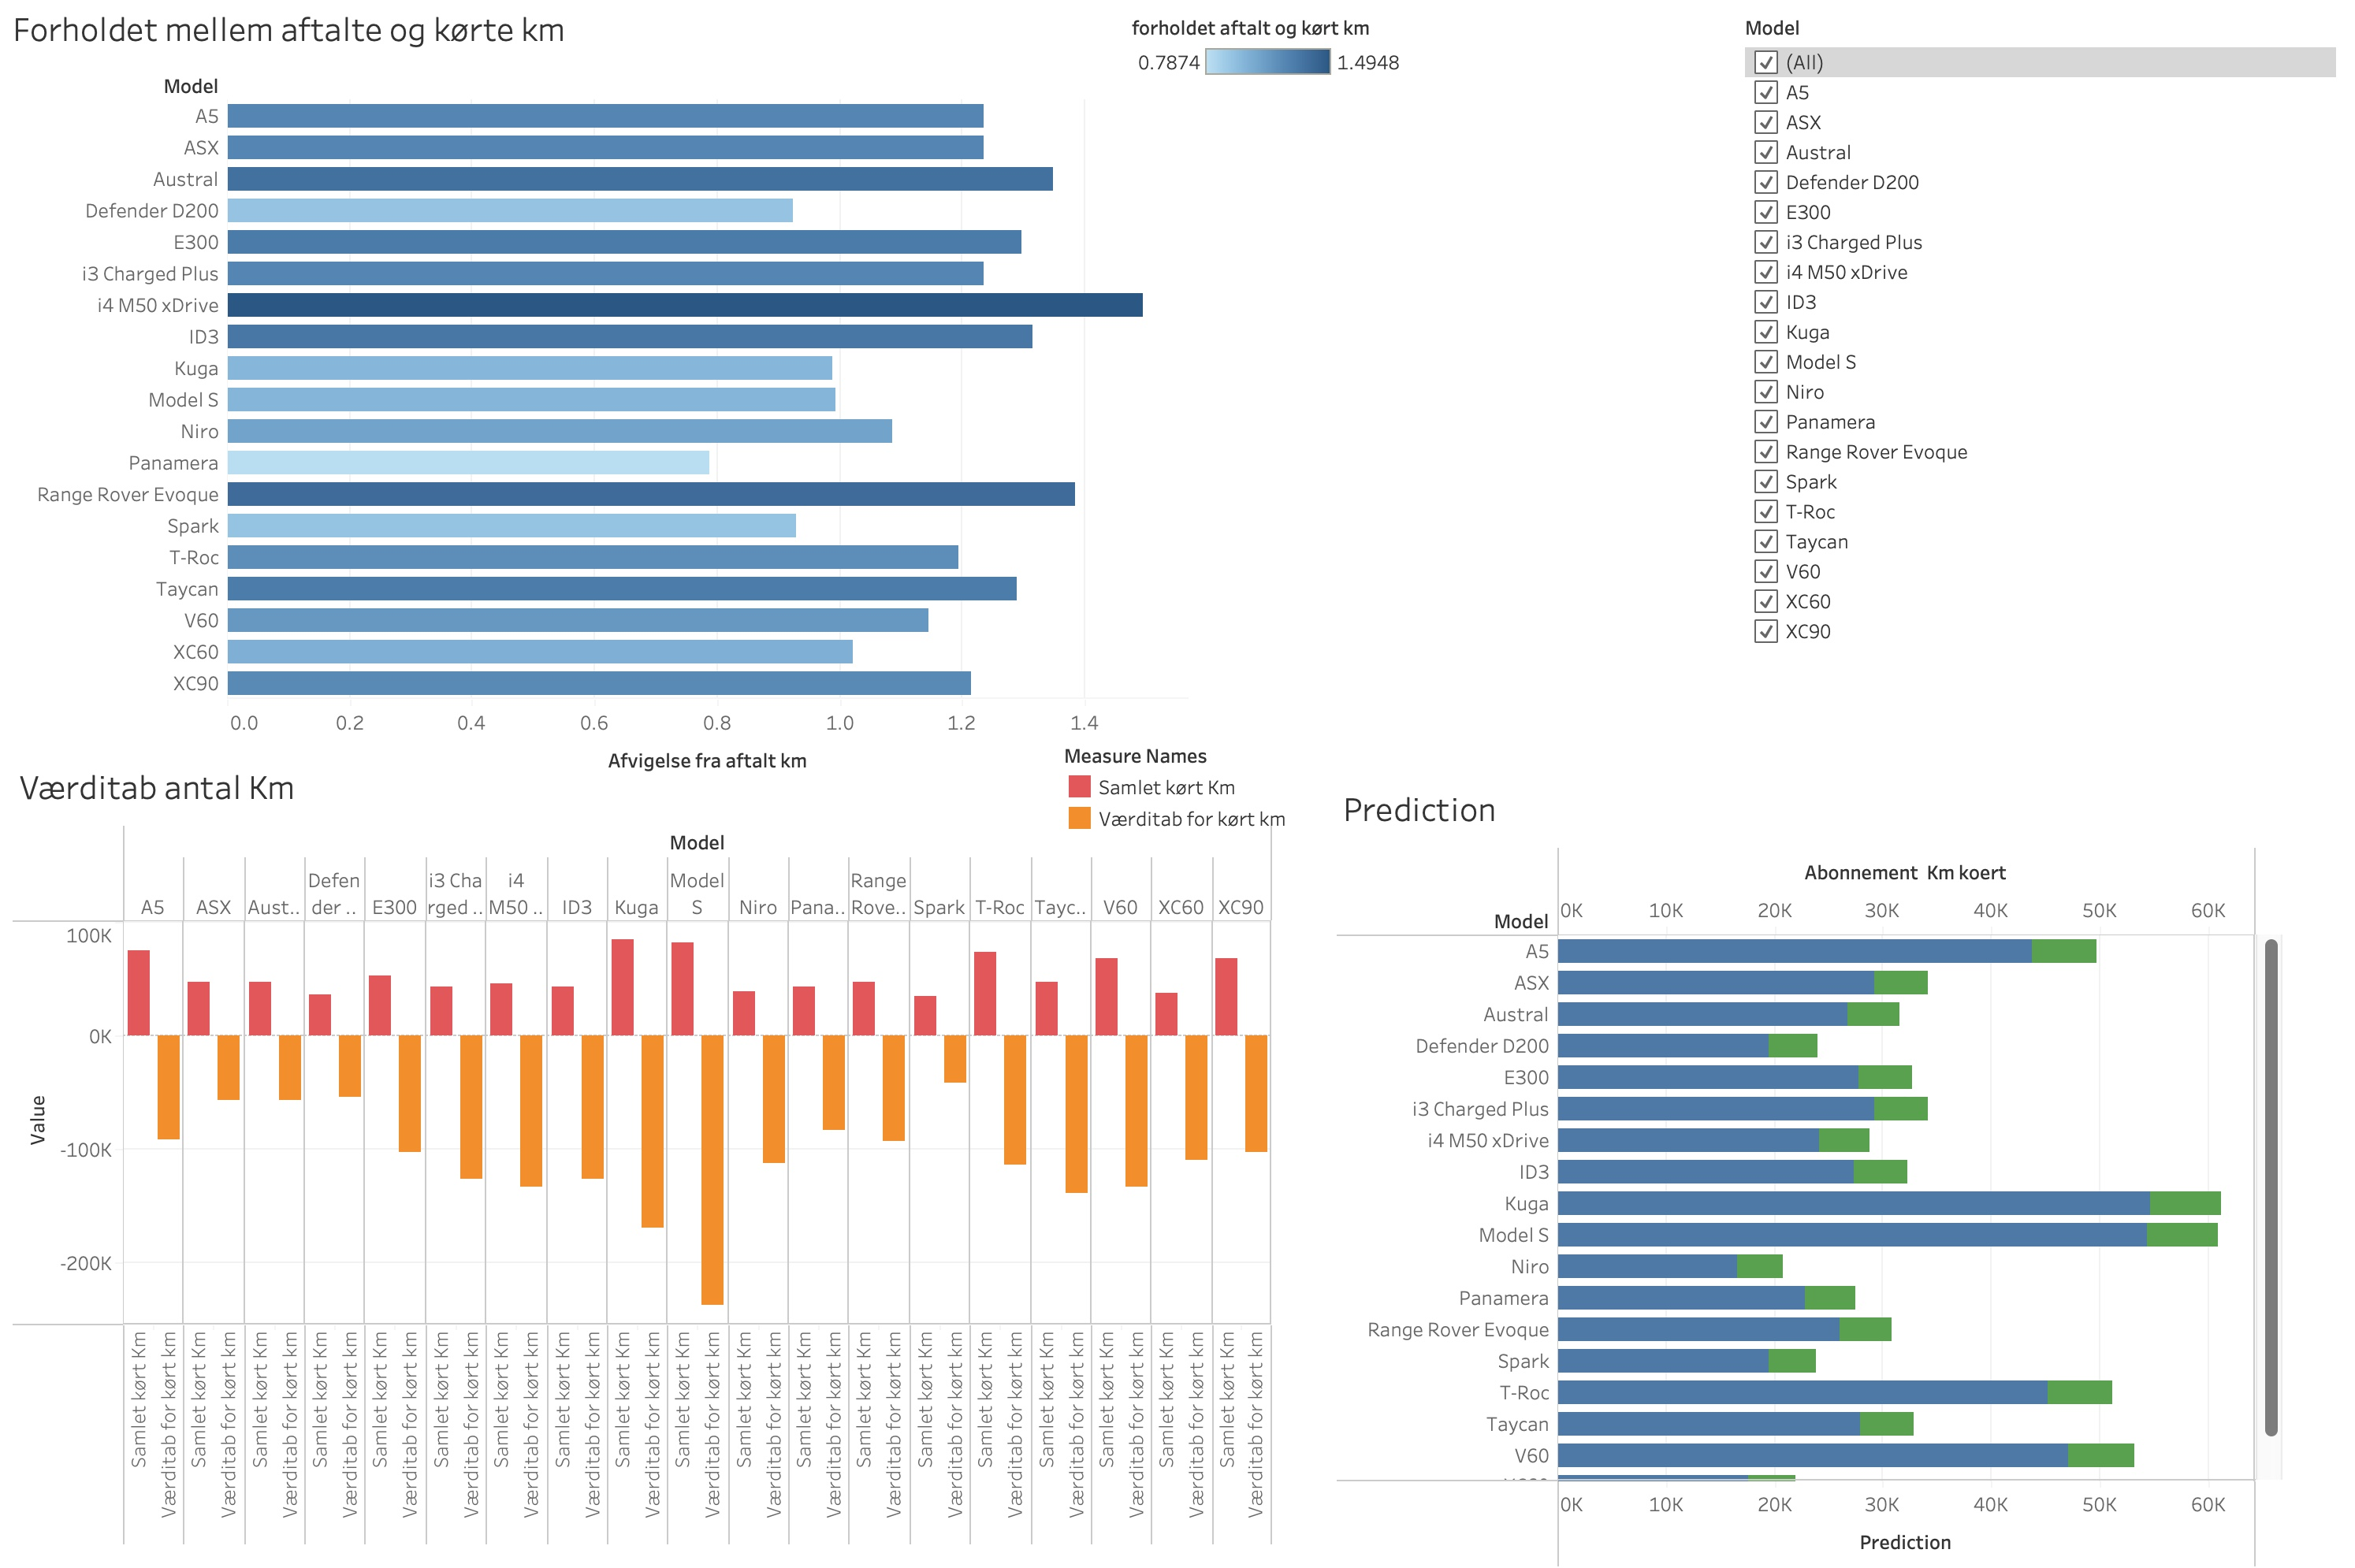

The dashboard page shown, as its layout file describes it:
{"tool":"tableau","page":{"name":"Dashboard 2","canvas":[1500,1000],"ordinal":1},"visuals":[{"type":"worksheet","title":"Sheet 2","mark":"Automatic","rows":["Model"],"cols":["Calculation_663929133246382085"],"box":[6.3,5,750,500]},{"type":"legend","title":"Sheet 2","param":"[federated.0etjcy50ffqzpf1dpkcmu0r6q8ev].[sum:Calculation_663929133246382085:qk]","box":[720,14,175,76]},{"type":"filter","title":"Sheet 1","param":"[federated.0etjcy50ffqzpf1dpkcmu0r6q8ev].[none:Model:nk]","box":[1108.8,14,375,405]},{"type":"legend","title":"Sheet 1","param":"[federated.0etjcy50ffqzpf1dpkcmu0r6q8ev].[:Measure Names]","box":[677,476,181,58]},{"type":"worksheet","title":"Sheet 1","mark":"Automatic","cols":["Model"],"box":[10,486,800,500]},{"type":"worksheet","title":"Sheet 9","mark":"Bar","rows":["Model"],"cols":["Abonnement  Km koert"],"box":[850,500,600,500]}]}

Visuals, with their boxes in screenshot pixels (x1, y1, x2, y2), scaled from the page's 1500x1000 canvas onto the 2355x1568 screenshot:
"Sheet 2" worksheet: box=[10, 8, 1188, 792]
"Sheet 2" legend: box=[1130, 22, 1405, 141]
"Sheet 1" filter: box=[1741, 22, 2330, 657]
"Sheet 1" legend: box=[1063, 746, 1347, 838]
"Sheet 1" worksheet: box=[16, 762, 1272, 1546]
"Sheet 9" worksheet (Bar marks): box=[1334, 784, 2276, 1567]
